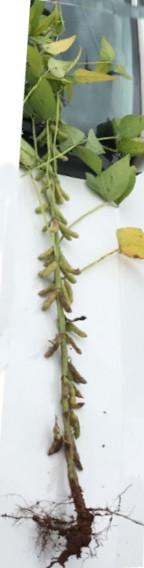soja: (68, 434, 90, 469), (46, 422, 67, 458), (60, 315, 91, 339), (65, 333, 89, 361), (68, 357, 88, 388), (61, 249, 82, 278), (37, 339, 60, 365), (64, 375, 87, 400), (68, 412, 86, 439), (33, 245, 60, 262), (39, 293, 61, 312), (51, 145, 72, 164), (58, 221, 80, 239), (57, 178, 73, 202), (35, 281, 57, 297), (58, 393, 71, 420), (62, 284, 77, 307), (52, 187, 68, 207), (39, 262, 57, 278), (35, 125, 51, 143), (52, 125, 73, 138), (62, 270, 79, 286), (57, 228, 73, 244), (40, 217, 55, 233), (35, 166, 50, 181), (38, 181, 53, 195), (40, 24, 57, 36), (58, 300, 75, 311), (35, 201, 49, 213)
